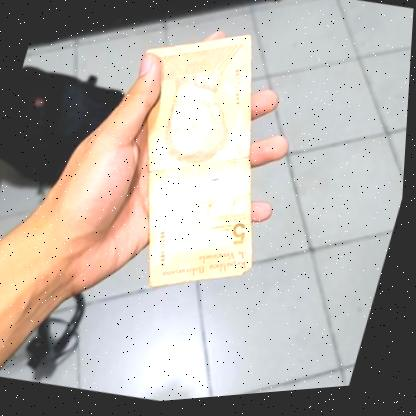vef_front: (85, 12, 316, 315)
